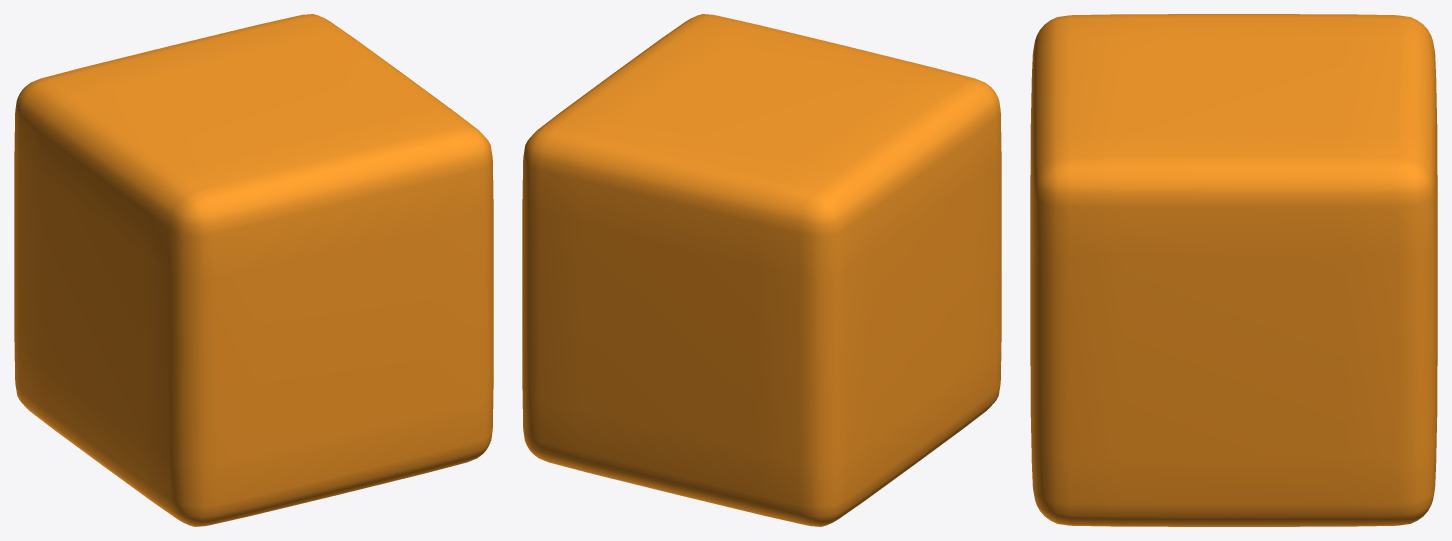
File: ground.fbx
3 views of the same model, side by side, from view 1: azimuth 30°, elevation 25°; view 2: azimuth 150°, elevation 25°; view 3: azimuth 270°, elevation 25° (orthographic). The views are drawn at different scales.
Parts seen in each view (by area): view 1: Roundcube.002; view 2: Roundcube.002; view 3: Roundcube.002.
Part boxes in pixels (x1,y1,x2,y2): Roundcube.002: [14, 14, 493, 526]; Roundcube.002: [522, 14, 1001, 526]; Roundcube.002: [1030, 14, 1437, 526].
Bounding box in the file's own units: 799 × 799 × 799.
